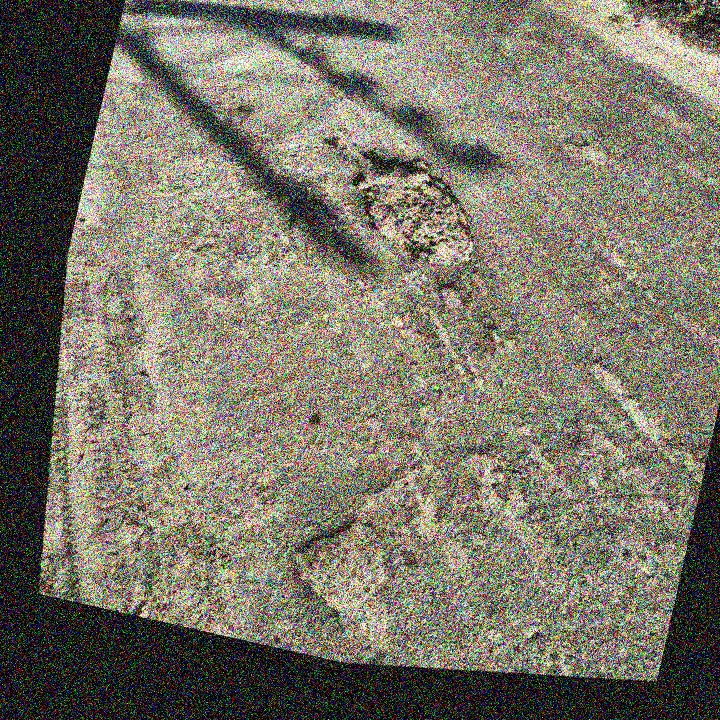pothole: (301, 106, 507, 295), (266, 492, 419, 657), (274, 182, 366, 275), (665, 432, 712, 508), (549, 125, 615, 178)
